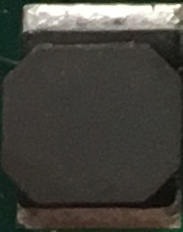Induktor: (4, 24, 180, 214)
